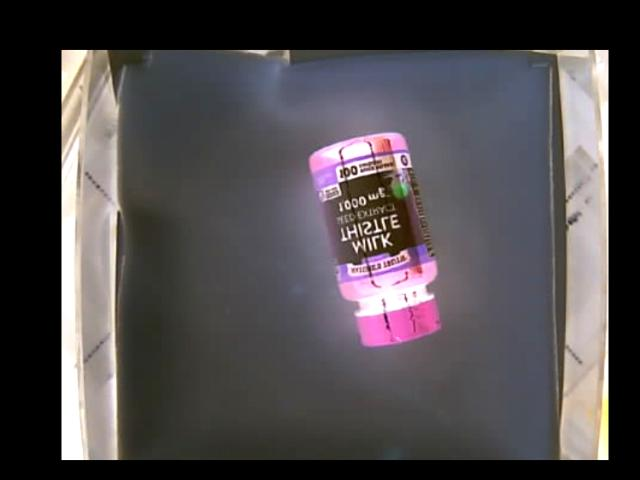Bottle: (312, 131, 441, 343)
